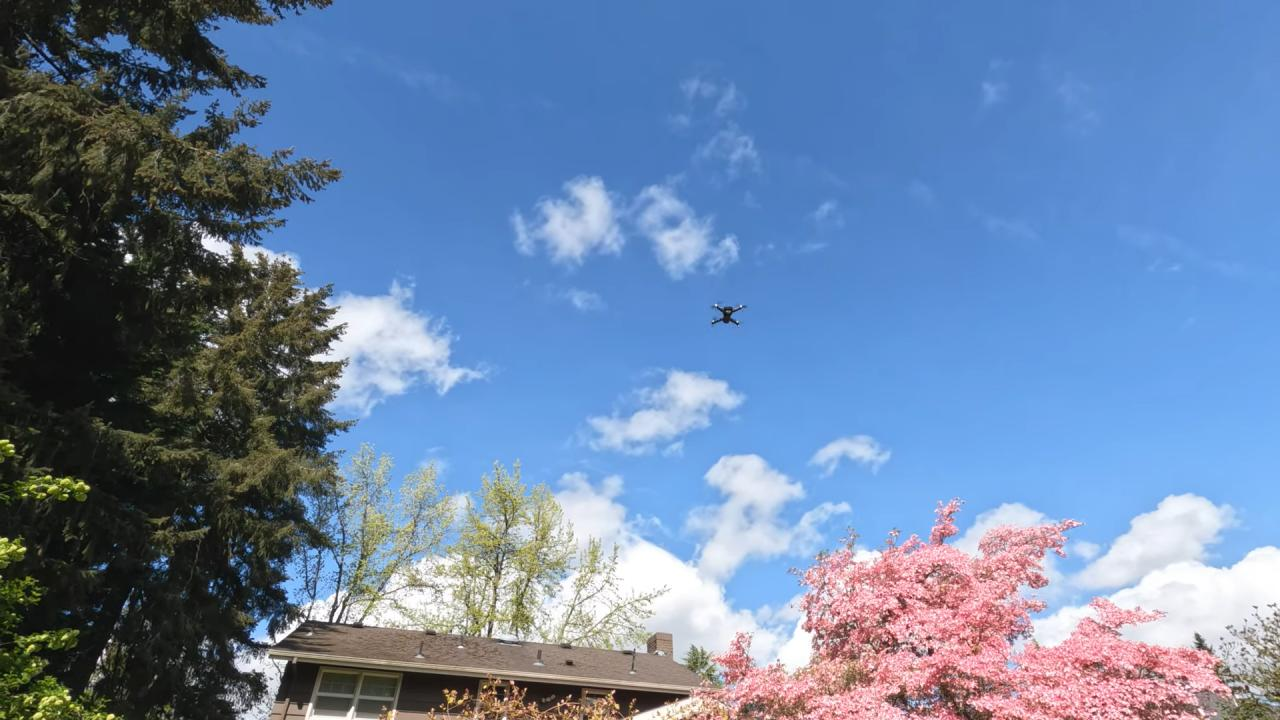Drone: (696, 292, 756, 339)
